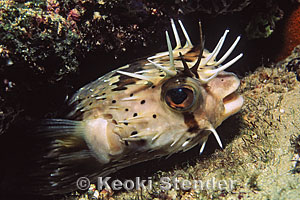Diodon_holocanthus: (35, 23, 256, 177)
